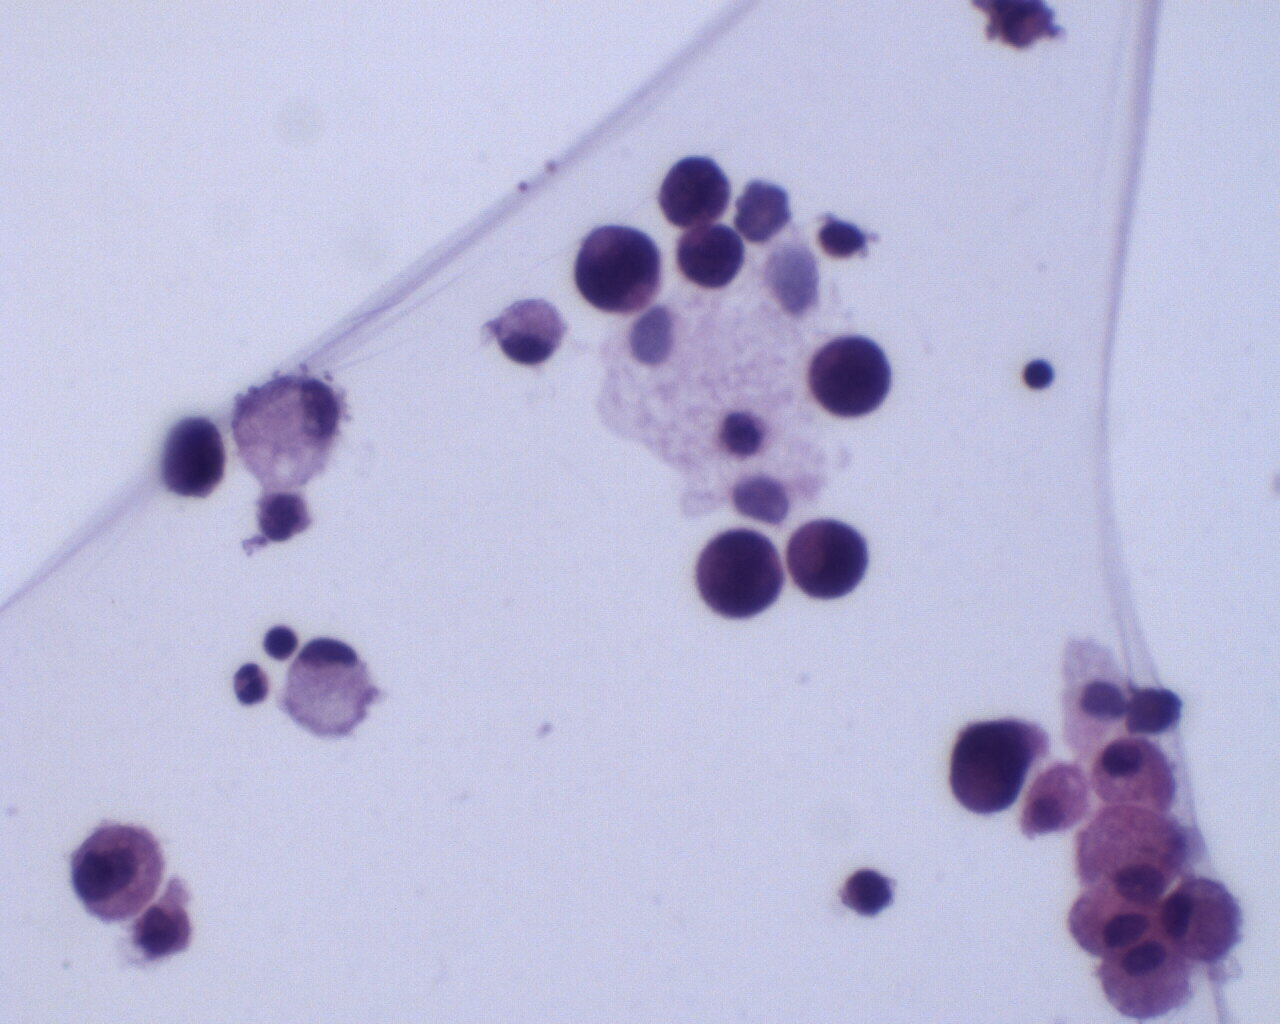ab: (940, 716, 1033, 818), (693, 523, 784, 623), (779, 515, 871, 603), (806, 330, 895, 418), (577, 223, 664, 313), (158, 414, 227, 501), (659, 154, 730, 226), (675, 222, 747, 290), (134, 897, 194, 961)
histo: (231, 371, 347, 491), (282, 635, 376, 736), (498, 295, 567, 368)
lymph: (844, 865, 895, 920), (262, 623, 301, 664), (1021, 355, 1058, 395)
meso: (68, 819, 168, 918), (1163, 872, 1246, 971), (1103, 936, 1192, 1019), (1088, 732, 1176, 810)
neutro: (229, 661, 273, 709)
